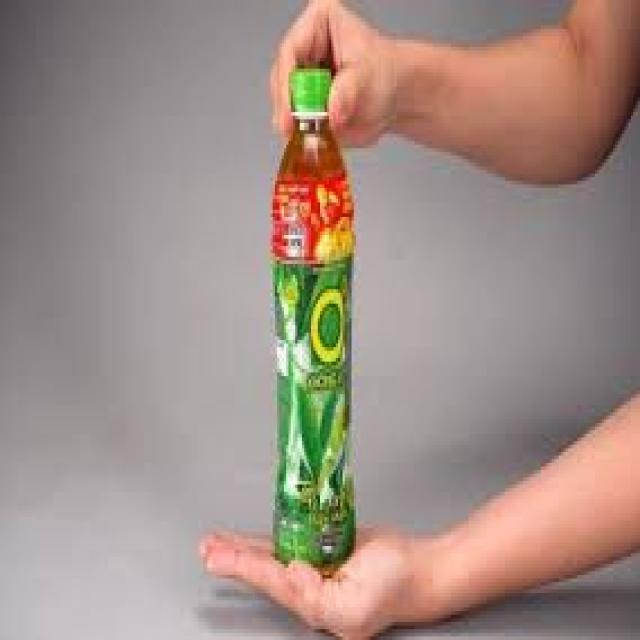tra xanh khong do: (260, 62, 375, 580)
